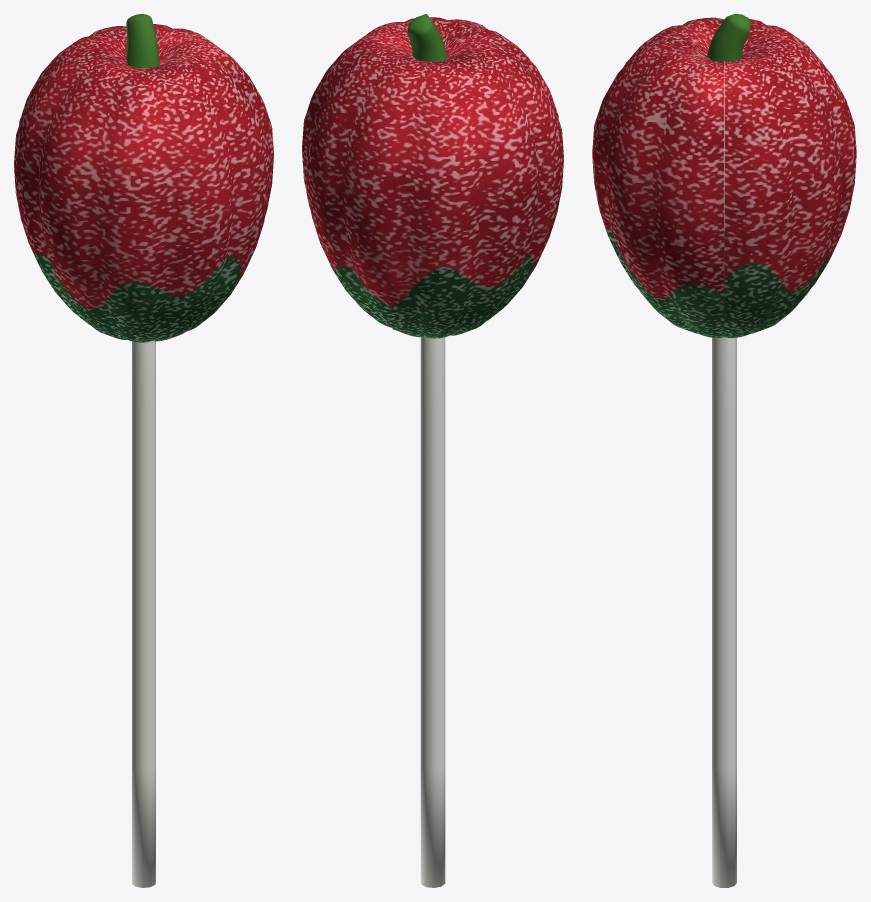
The model's file is cake-pop.glb.
3 renders of one model, left to right at view 1: azimuth 30°, elevation 25°; view 2: azimuth 150°, elevation 25°; view 3: azimuth 270°, elevation 25°, orthographic.
Visible parts, largest first — view 1: cake-pop; view 2: cake-pop; view 3: cake-pop.
Boxes of the visible parts, x1=… form: cake-pop: x1=14, y1=14, x2=273, y2=887; cake-pop: x1=302, y1=14, x2=563, y2=887; cake-pop: x1=592, y1=14, x2=856, y2=887.
Bounding box in the file's own units: 0.375 × 1.39 × 0.3813.
Materials: 1 (1 with a texture image).
